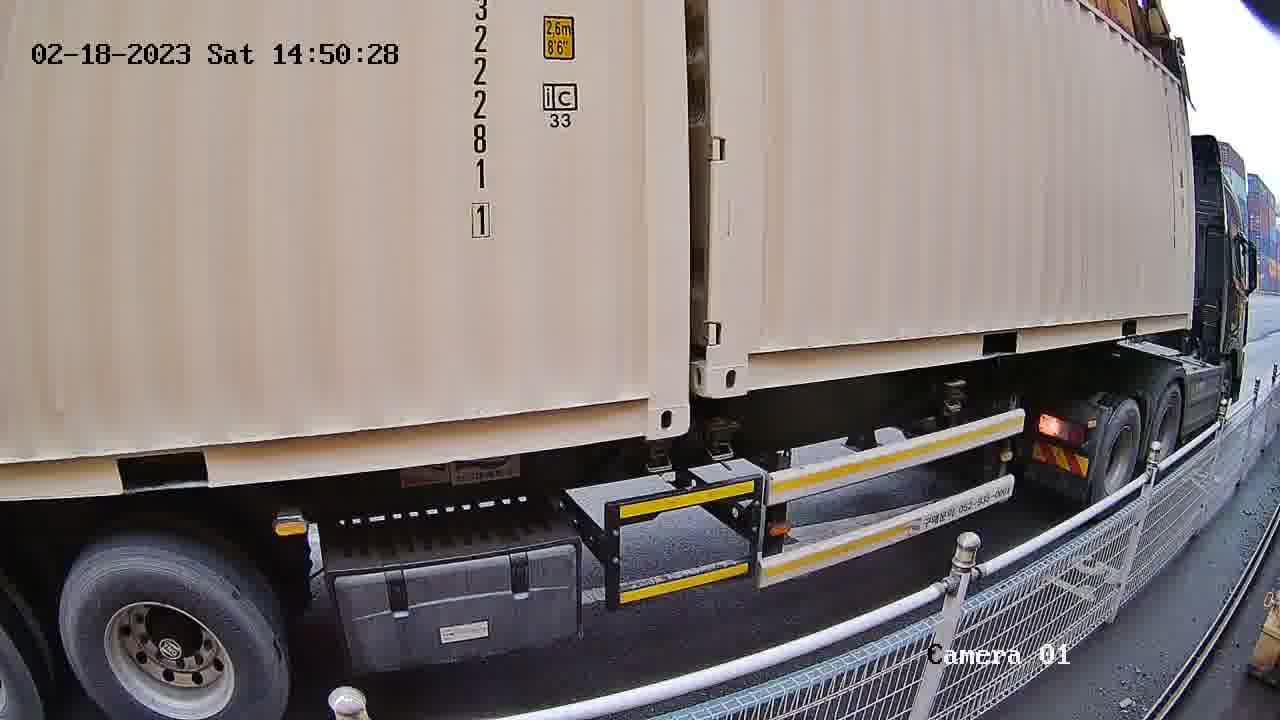Cone: (705, 409, 740, 470), (641, 438, 676, 480)
Hole_L: (709, 327, 784, 399)
Hole_R: (613, 371, 688, 440)
Tire: (64, 553, 283, 714), (1093, 405, 1141, 513), (1152, 386, 1183, 476)
